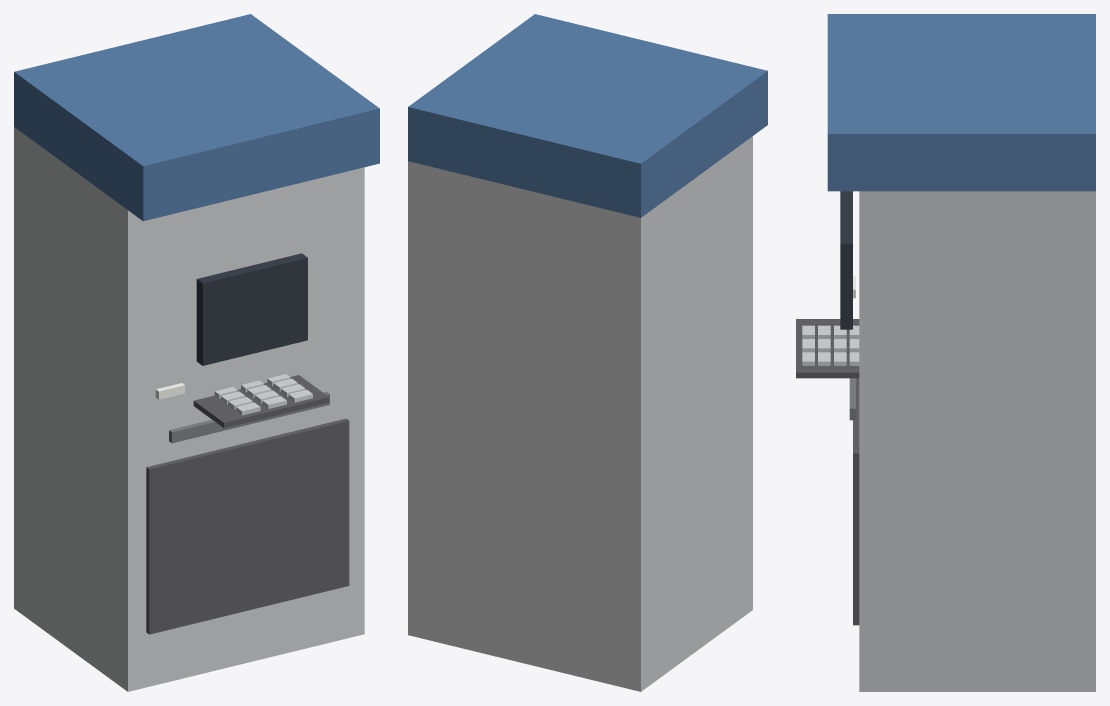
The model's file is ATM_Machine.fbx.
3 renders of one model, left to right at view 1: azimuth 30°, elevation 25°; view 2: azimuth 150°, elevation 25°; view 3: azimuth 270°, elevation 25°, orthographic. The views are drawn at different scales.
Parts seen in each view (by area): view 1: ATM_Machine; view 2: ATM_Machine; view 3: ATM_Machine.
Part boxes in pixels (<box>): ATM_Machine: <box>14,14,379,691</box>; ATM_Machine: <box>408,14,767,691</box>; ATM_Machine: <box>796,14,1095,691</box>.
Bounding box in the file's own units: 0.9 × 1.95 × 0.95.
